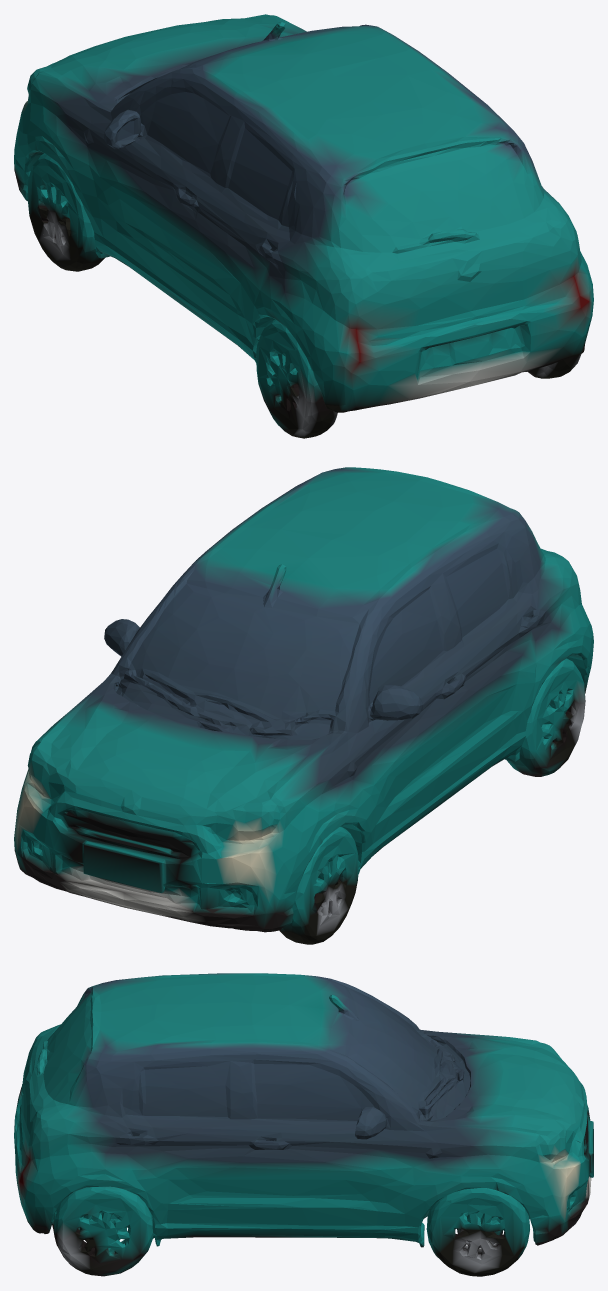
The model's file is pride_lod1.glb.
3 renders of one model, top to bottom at view 1: azimuth 30°, elevation 25°; view 2: azimuth 150°, elevation 25°; view 3: azimuth 270°, elevation 25°, orthographic. The views are drawn at different scales.
Visible parts, largest first — view 1: world; view 2: world; view 3: world.
Boxes of the visible parts, <box> form: world: <box>14,14,593,438</box>; world: <box>14,467,593,944</box>; world: <box>14,973,593,1276</box>.
Bounding box in the file's own units: 88.41 × 75.32 × 172.
